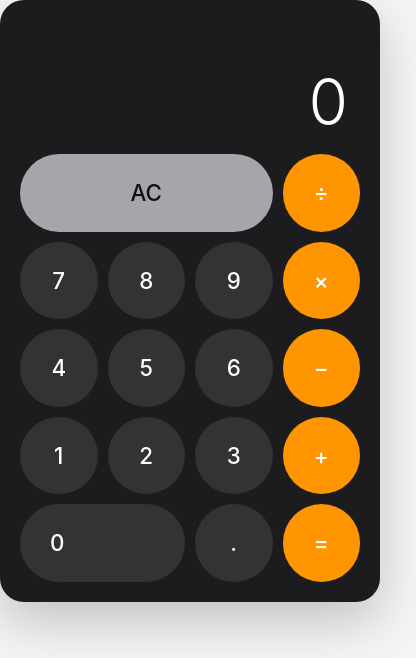
Test: Calculator › displays Error when the API returns an error
The image size is (416, 658).
Click the button "7" at (59, 280), box x1=20 y1=242 x2=98 y2=319
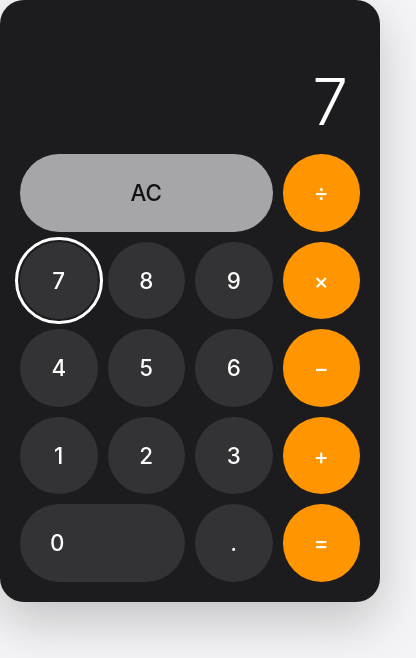
Click the button "÷" at (321, 193), box x1=282 y1=154 x2=360 y2=232
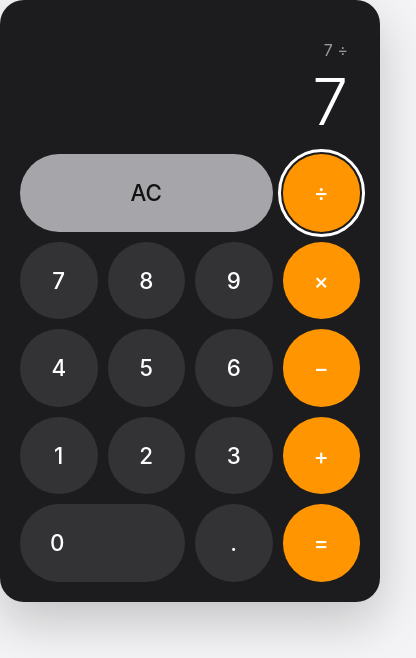
Click the button "0" at (102, 543), box x1=20 y1=504 x2=185 y2=582
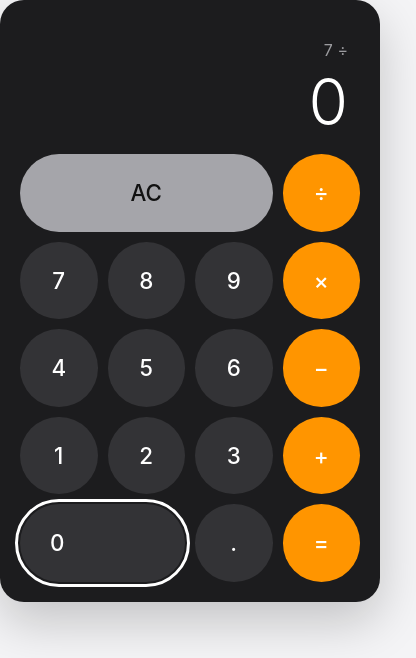
Click the button "=" at (321, 543), box x1=282 y1=504 x2=360 y2=582
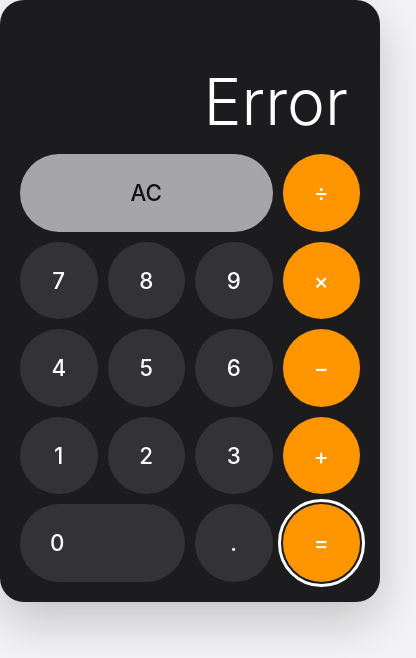
Now the text "Error" is shown, box x1=203 y1=63 x2=348 y2=140
